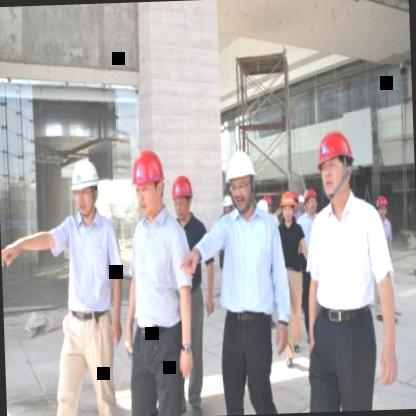helmet: (314, 128, 358, 202), (130, 148, 168, 220), (222, 148, 260, 210), (68, 156, 102, 222), (170, 173, 196, 219), (278, 186, 296, 228), (302, 184, 318, 217), (374, 192, 390, 222)
